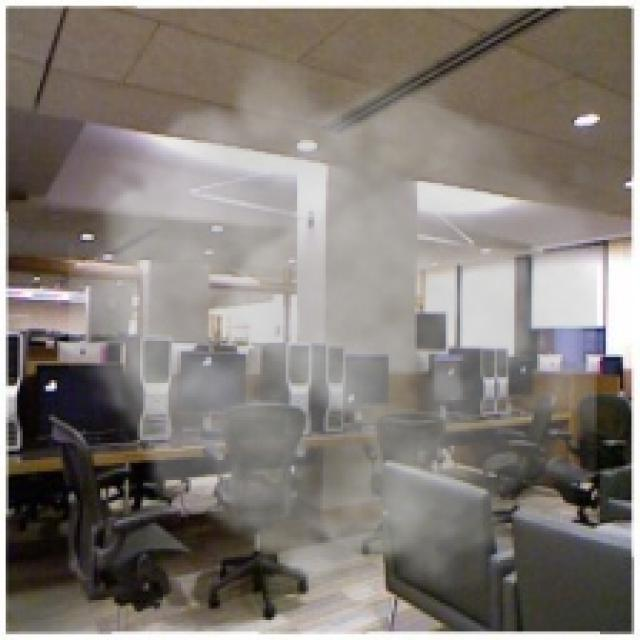Smoke: (68, 43, 598, 612)
